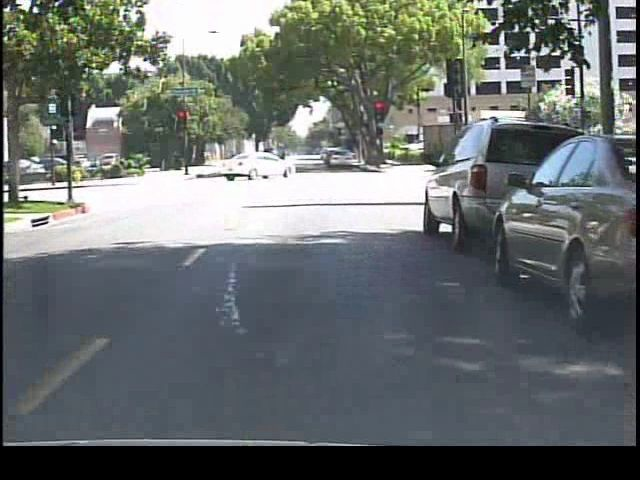person: (277, 141, 292, 173)
